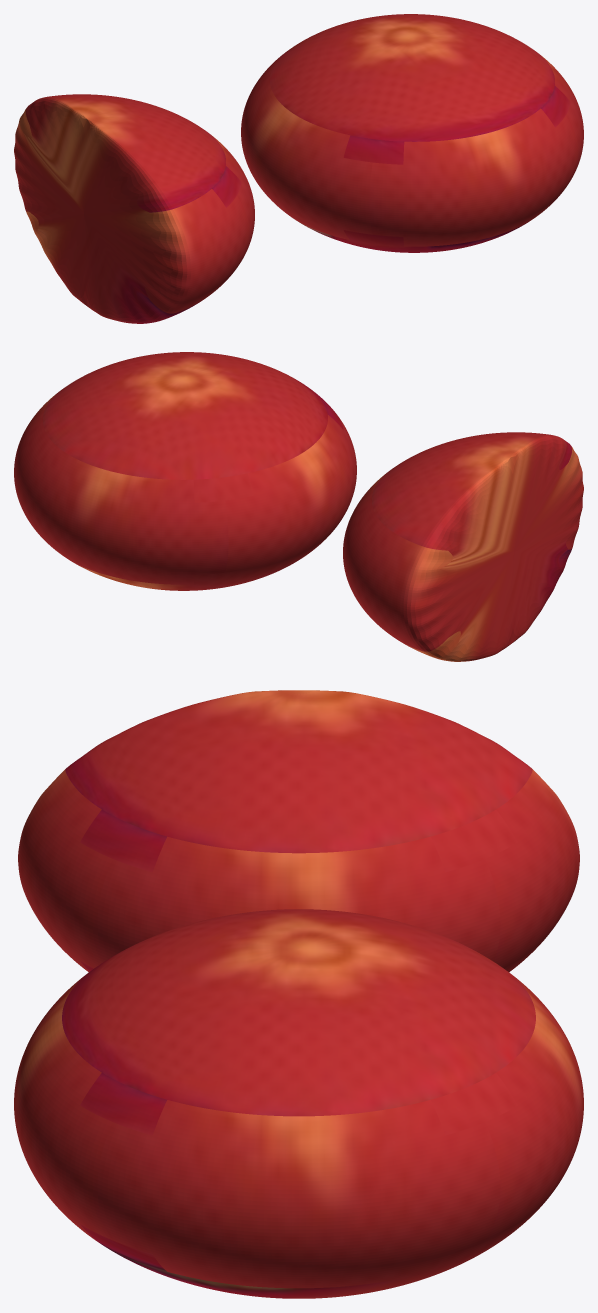
The model's file is SALET MODEL.fbx.
The picture shows the model from 3 angles, top to bottom: view 1: azimuth 30°, elevation 25°; view 2: azimuth 150°, elevation 25°; view 3: azimuth 270°, elevation 25°; orthographic projection. The views are drawn at different scales.
Visible parts, largest first — view 1: Sphere, Sphere.001; view 2: Sphere, Sphere.001; view 3: Sphere, Sphere.001.
Part boxes in pixels (x1,y1,x2,y2): Sphere: (241, 14, 583, 252); Sphere.001: (14, 94, 254, 323); Sphere: (14, 352, 356, 590); Sphere.001: (343, 432, 583, 661); Sphere: (14, 909, 583, 1298); Sphere.001: (18, 690, 579, 972).
Bounding box in the file's own units: 306 × 116 × 193.
Materials: 1 (1 with a texture image).
